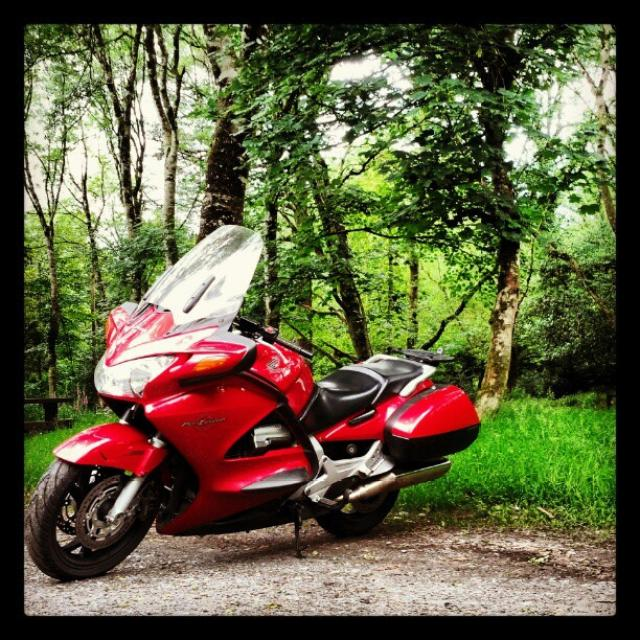motor: (26, 221, 486, 581)
